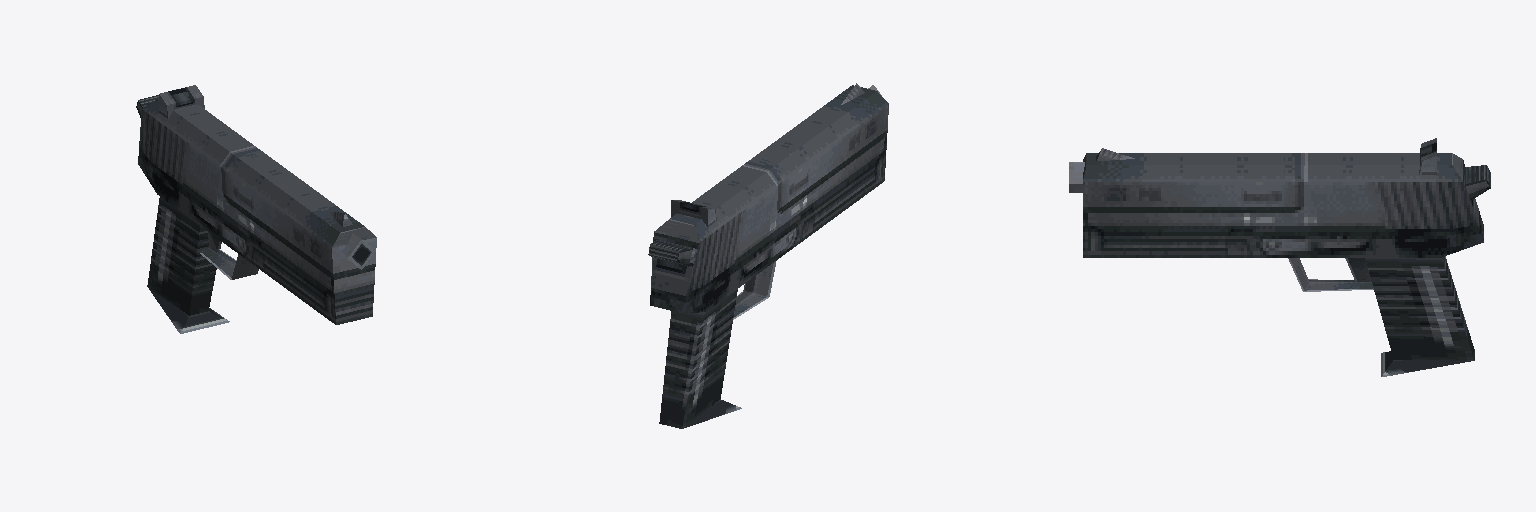
3 views of the same model, side by side, from view 1: azimuth 30°, elevation 25°; view 2: azimuth 150°, elevation 25°; view 3: azimuth 270°, elevation 25° (orthographic).
Parts seen in each view (by area): view 1: webfishing_gun; view 2: webfishing_gun; view 3: webfishing_gun.
Boxes of the visible parts, <box> form: webfishing_gun: <box>136,85,376,333</box>; webfishing_gun: <box>648,83,888,428</box>; webfishing_gun: <box>1069,138,1490,376</box>.
Bounding box in the file's own units: 0.7278 × 3 × 5.27.
1 materials, 1 textured.